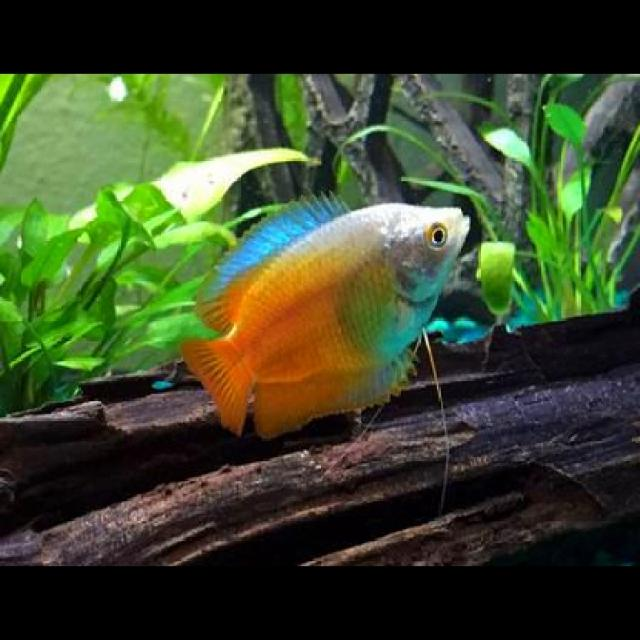Gourami: (175, 190, 471, 436)
